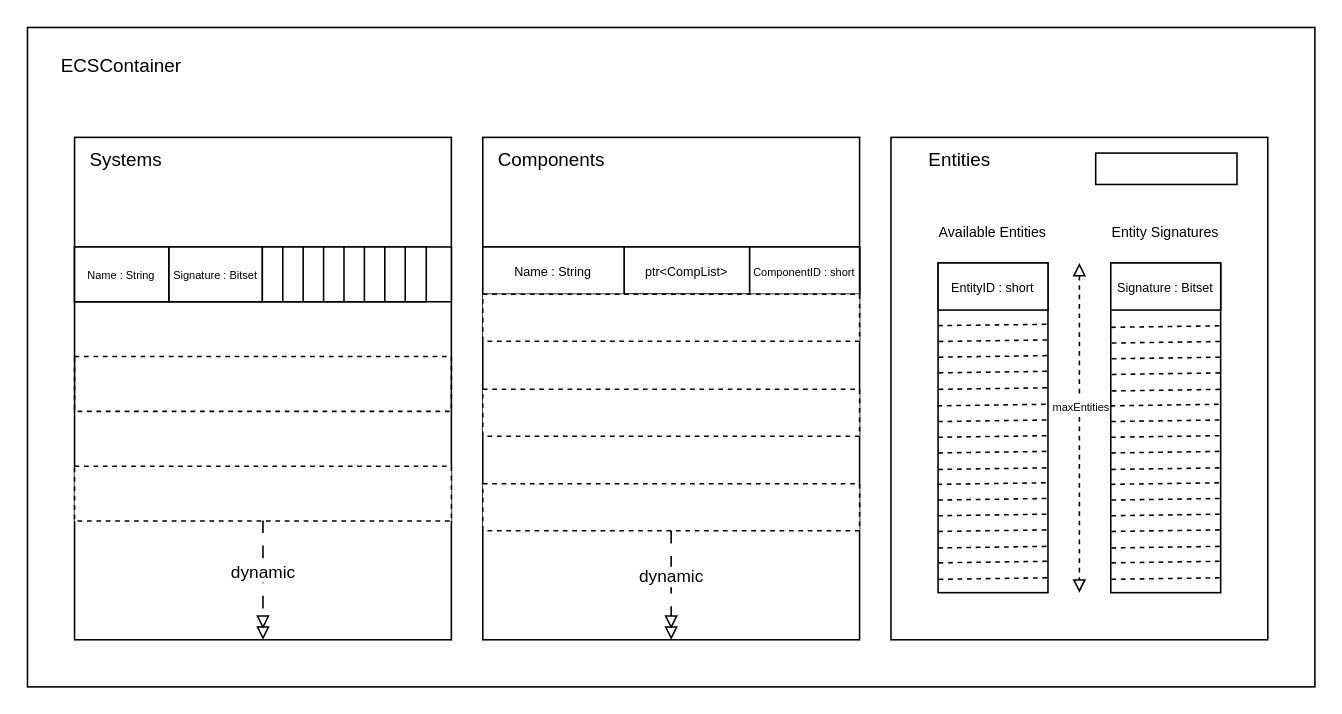
Some shapes in this 1342 by 714 pixel diagram are drawn without their labels. The shapes that lost their labels are listed below. From the top down, each one's box as (x1, y1, x2, y2) in pixels, then its label:
(1094, 152, 1237, 184): livingEntityCount : short
(261, 245, 426, 302): entity IDs : list<short>
